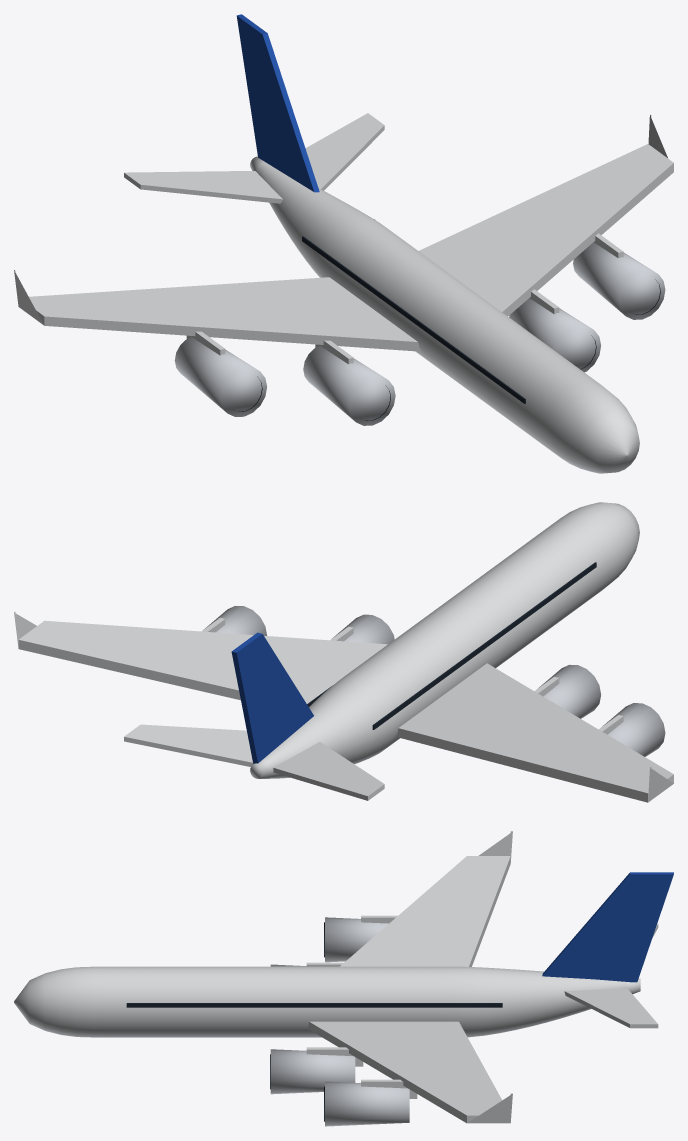
File: airliner4.glb
3 views of the same model, one above another, from view 1: azimuth 30°, elevation 25°; view 2: azimuth 150°, elevation 25°; view 3: azimuth 270°, elevation 25° (orthographic). The views are drawn at different scales.
Visible parts, largest first — view 1: fuselage, wing, wing.001, fin, engine, engine.001, engine.003, stab, engine.002, stab.001, windows; view 2: fuselage, wing, wing.001, fin, stab.001, stab, engine.001, engine, windows, engine.002, engine.003; view 3: fuselage, wing.001, wing, fin, engine.003, engine.002, stab.001, windows.001, engine.001.
Part boxes in pixels (left/top/right/bottom): fuselage: left=250, top=156, right=639, bottom=473; wing: left=14, top=270, right=421, bottom=351; wing.001: left=419, top=115, right=673, bottom=316; fin: left=236, top=14, right=319, bottom=192; engine: left=303, top=346, right=395, bottom=425; engine.001: left=174, top=337, right=266, bottom=416; engine.003: left=573, top=242, right=665, bottom=319; stab: left=124, top=171, right=282, bottom=203; engine.002: left=509, top=298, right=601, bottom=372; stab.001: left=305, top=113, right=384, bottom=190; windows: left=302, top=236, right=525, bottom=403; fuselage: left=250, top=502, right=639, bottom=778; wing: left=396, top=663, right=673, bottom=802; wing.001: left=14, top=611, right=387, bottom=703; fin: left=231, top=632, right=313, bottom=763; stab.001: left=124, top=724, right=253, bottom=766; stab: left=273, top=742, right=384, bottom=800; engine.001: left=602, top=703, right=665, bottom=756; engine: left=539, top=664, right=600, bottom=718; windows: left=372, top=562, right=596, bottom=729; engine.002: left=332, top=614, right=394, bottom=644; engine.003: left=203, top=606, right=266, bottom=635; fuselage: left=14, top=966, right=640, bottom=1037; wing.001: left=307, top=1021, right=512, bottom=1123; wing: left=340, top=831, right=512, bottom=966; fin: left=542, top=872, right=673, bottom=982; engine.003: left=325, top=1081, right=409, bottom=1126; engine.002: left=270, top=1049, right=355, bottom=1094; stab.001: left=564, top=988, right=658, bottom=1028; windows.001: left=126, top=1003, right=502, bottom=1007; engine.001: left=325, top=917, right=388, bottom=962.
Size of the model in its own units: 9.9 by 3.13 by 10.53.
